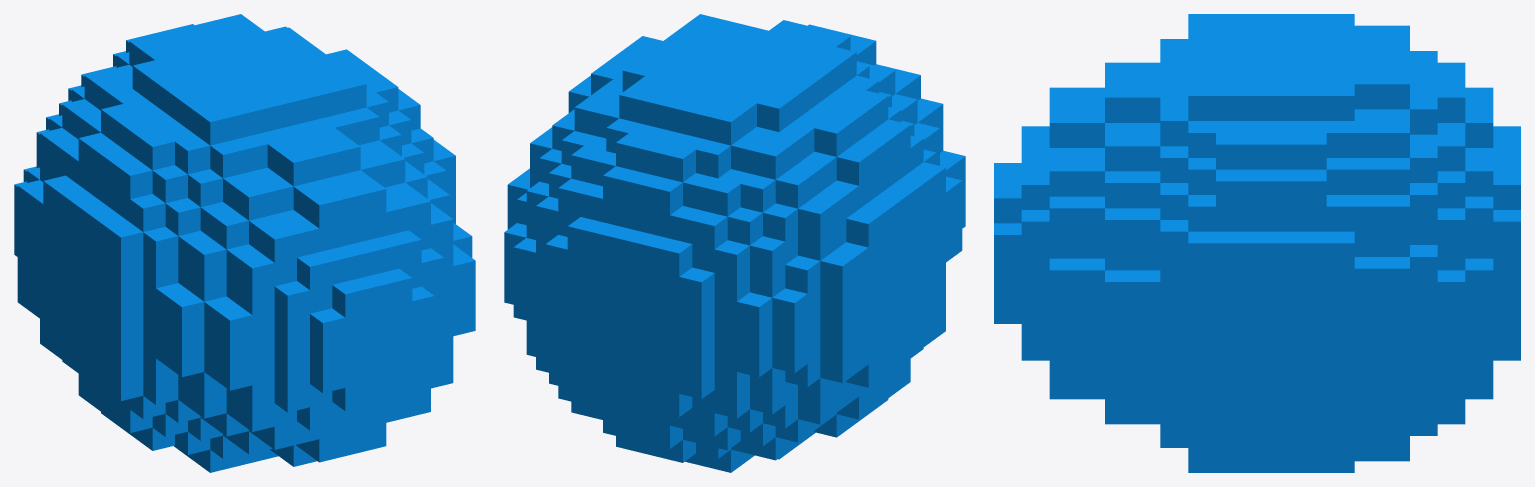
File: fast_water_drop.fbx
3 renders of one model, left to right at view 1: azimuth 30°, elevation 25°; view 2: azimuth 150°, elevation 25°; view 3: azimuth 270°, elevation 25°, orthographic. The views are drawn at different scales.
Parts seen in each view (by area): view 1: fast_water_drop; view 2: fast_water_drop; view 3: fast_water_drop.
Part boxes in pixels (x1,y1,x2,y2): fast_water_drop: [14, 14, 475, 472]; fast_water_drop: [504, 14, 965, 472]; fast_water_drop: [994, 14, 1520, 472].
Bounding box in the file's own units: 15 × 15 × 19.
